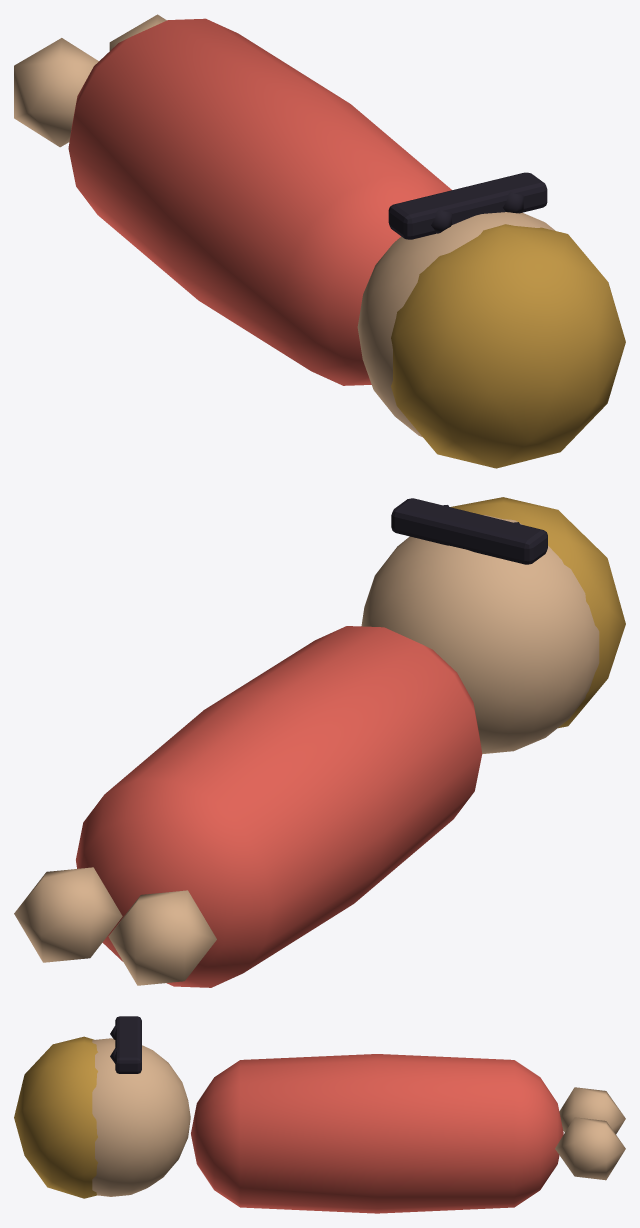
The model's file is person_sunbather_a.fbx.
The picture shows the model from 3 angles, top to bottom: view 1: azimuth 30°, elevation 25°; view 2: azimuth 150°, elevation 25°; view 3: azimuth 270°, elevation 25°; orthographic projection. The views are drawn at different scales.
Visible parts, largest first — view 1: Body, Head; view 2: Body, Head; view 3: Body, Head.
Part boxes in pixels (x1,y1,x2,y2): Body: (14, 14, 451, 385); Head: (357, 172, 625, 468); Body: (14, 626, 482, 987); Head: (361, 497, 625, 753); Body: (191, 1054, 625, 1213); Head: (14, 1016, 190, 1198).
Size of the model in its own units: 0.18 by 0.21 by 0.6891.
